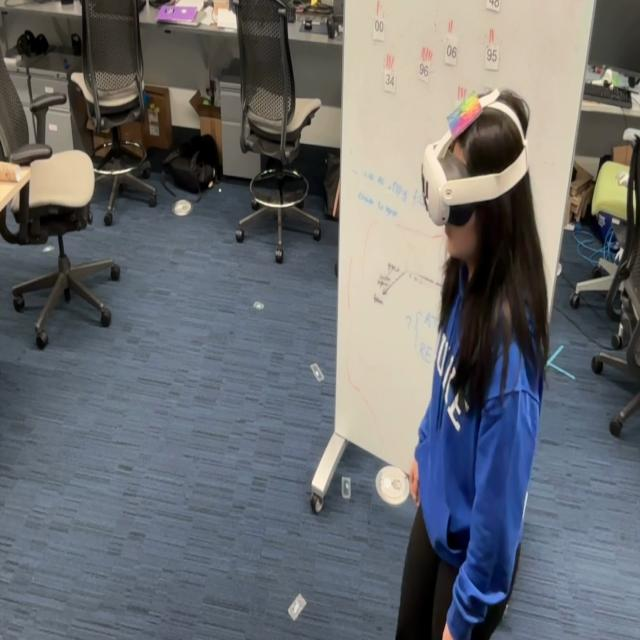Headset: (421, 87, 530, 226)
Marker: (441, 78, 485, 137)
